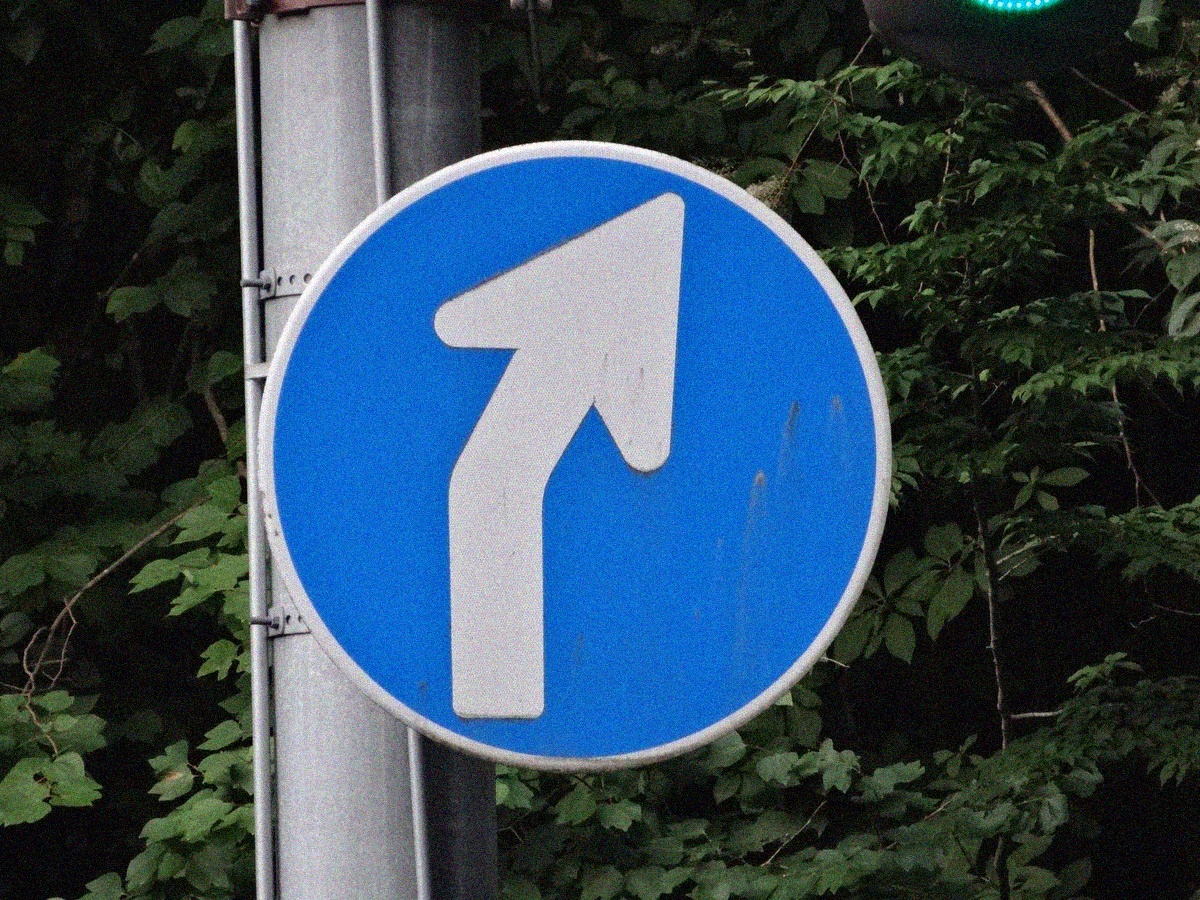Direction_sign: (227, 127, 892, 775)
